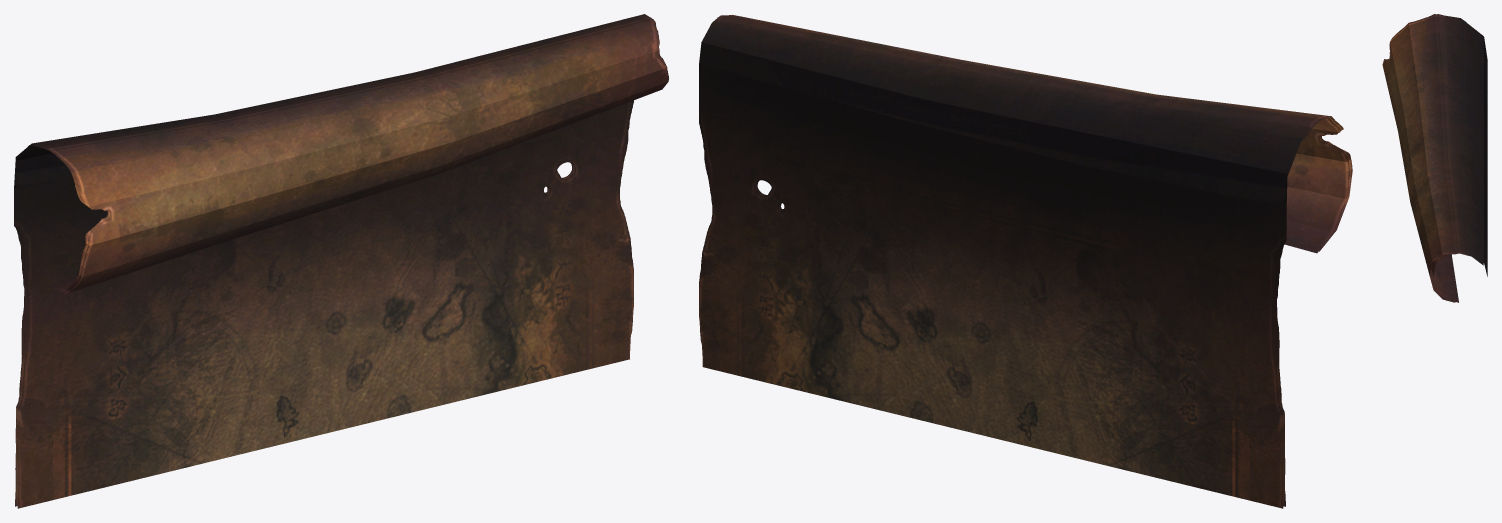
Rendered from huodong_fuben_656_ditu.obj.
3 views of the same model, side by side, from view 1: azimuth 30°, elevation 25°; view 2: azimuth 150°, elevation 25°; view 3: azimuth 270°, elevation 25° (orthographic). The views are drawn at different scales.
Visible parts, largest first — view 1: huodong_fuben_656_ditu; view 2: huodong_fuben_656_ditu; view 3: huodong_fuben_656_ditu.
Part boxes in pixels (x1,y1,x2,y2): huodong_fuben_656_ditu: (14, 14, 668, 508); huodong_fuben_656_ditu: (699, 15, 1352, 508); huodong_fuben_656_ditu: (1382, 14, 1487, 302).
Size of the model in its own units: 635 by 376 by 130.
Materials: 1 (1 with a texture image).
